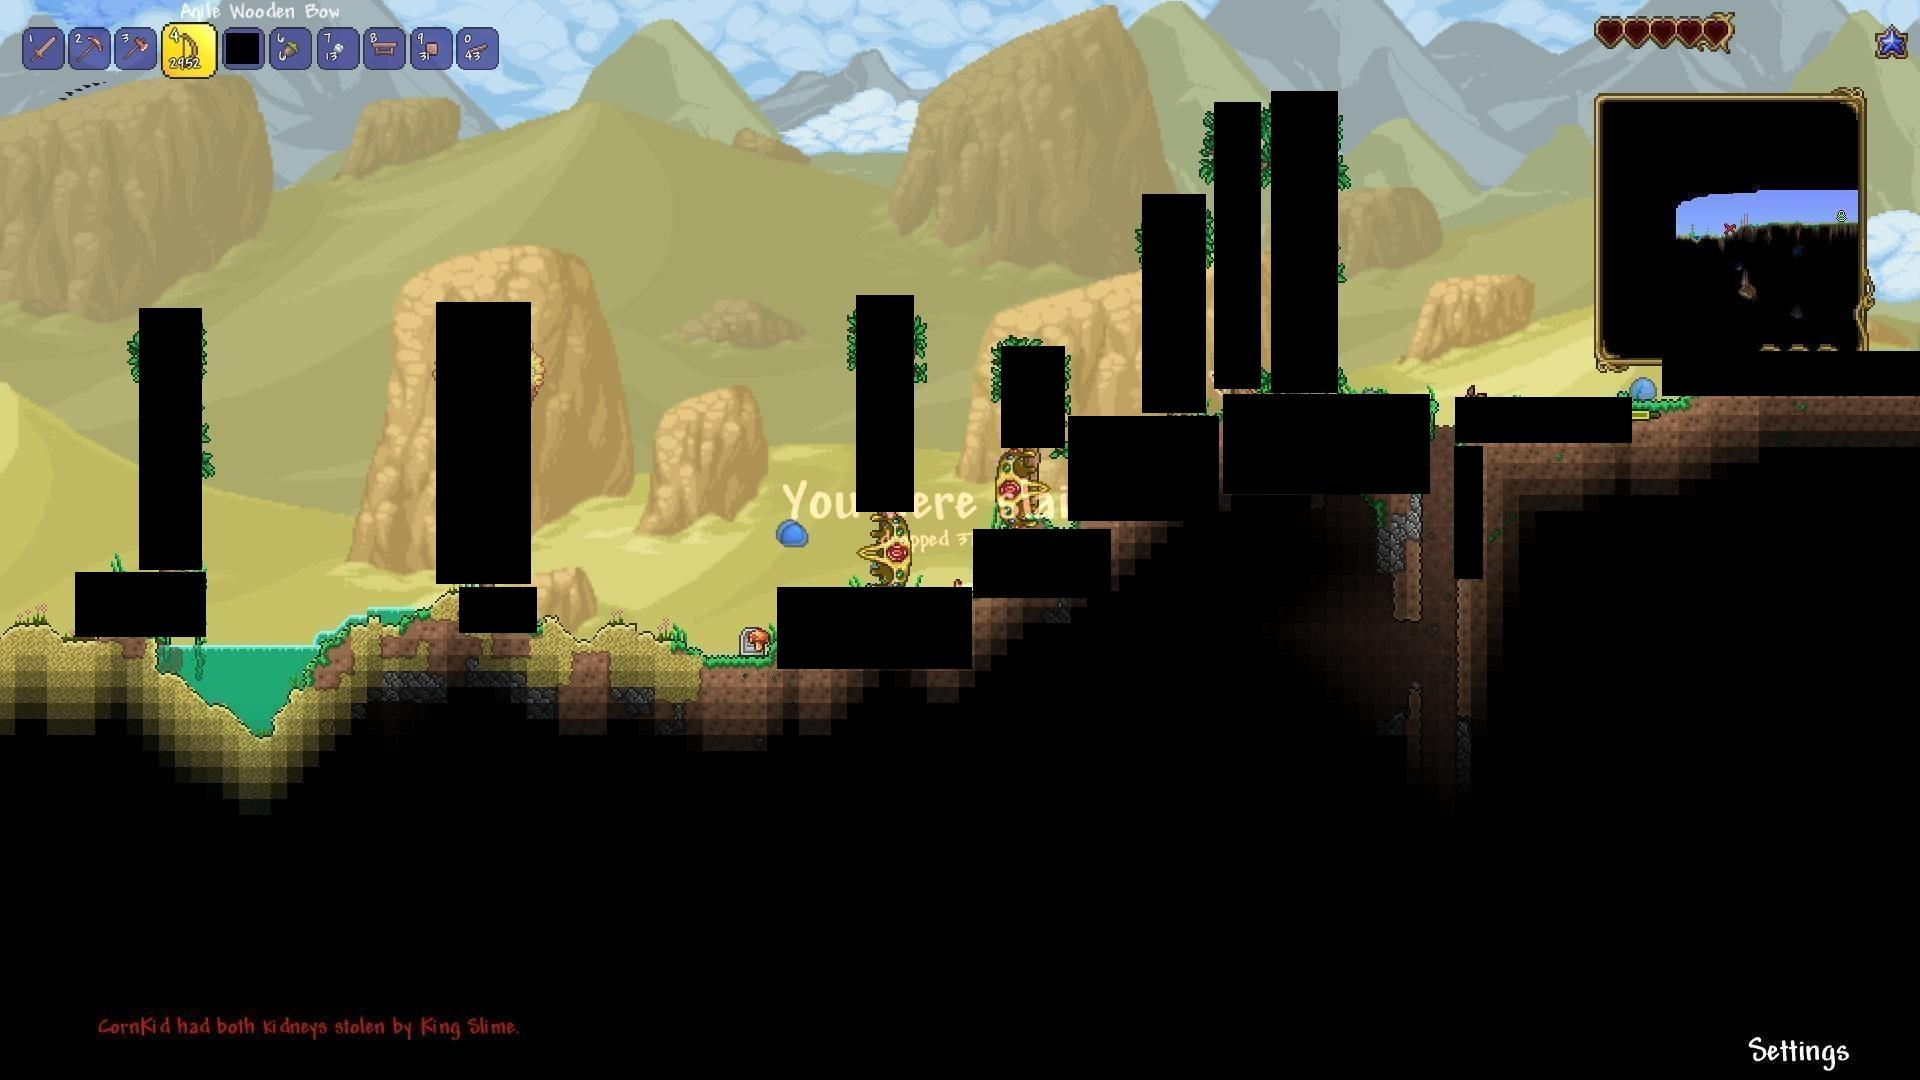dirt: (703, 650, 774, 694)
slime: (774, 520, 812, 547), (1878, 32, 1911, 58), (1629, 375, 1659, 400)
workbench: (367, 36, 404, 61)
